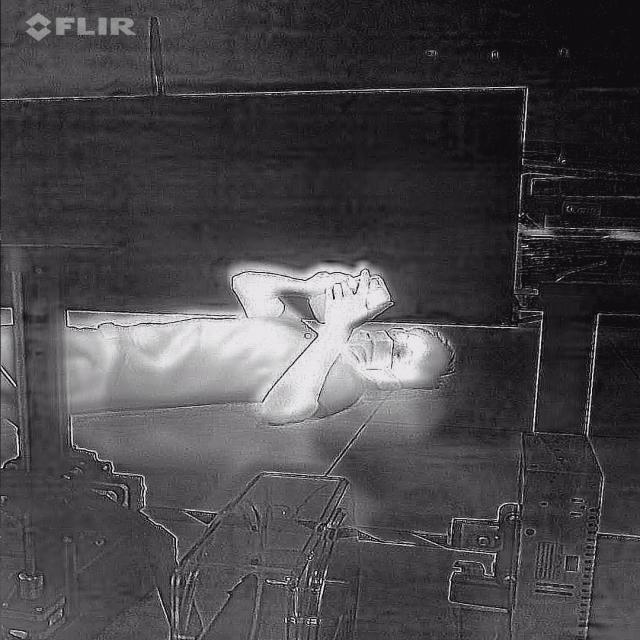Victim: (0, 265, 463, 424)
